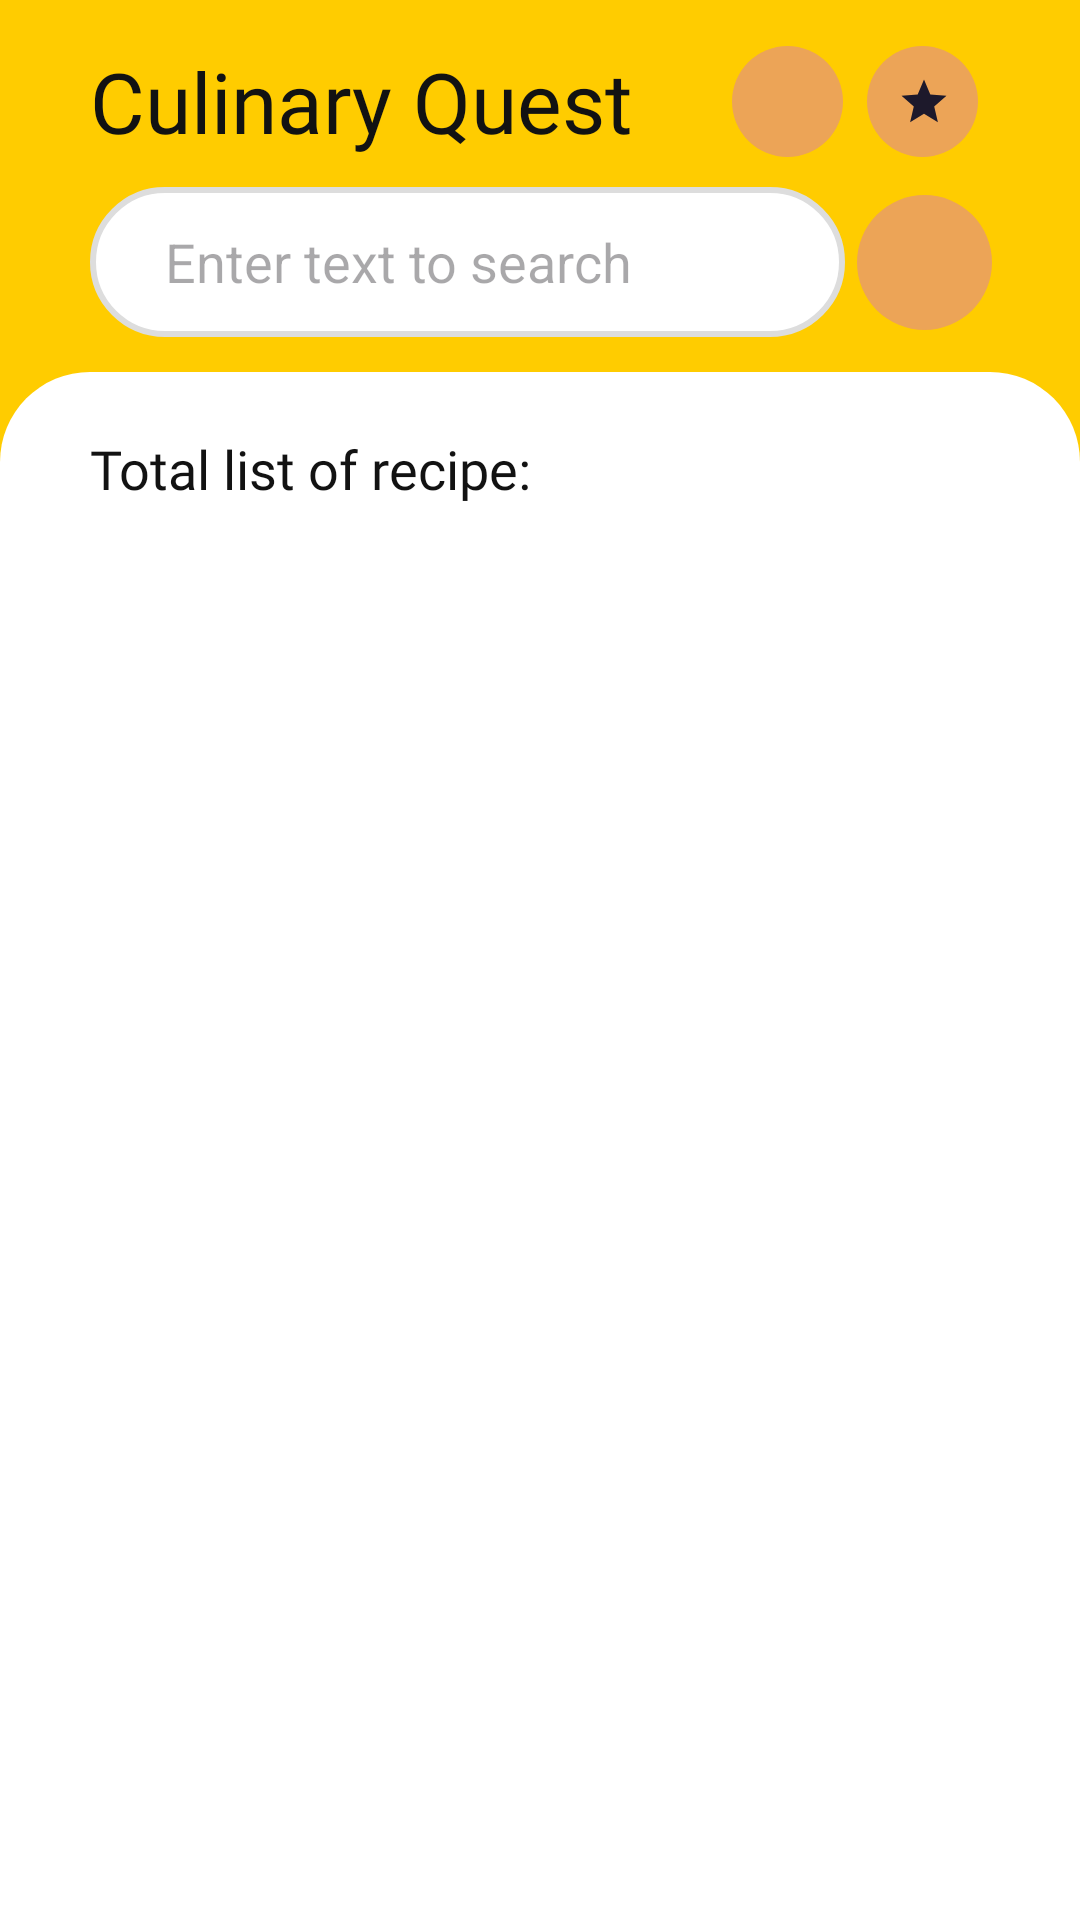

Locate icon controls on the screen. Image size 1080px×1920px, boxes as bbox(x1, y1, x2, y2).
star: bbox(867, 46, 978, 157)
